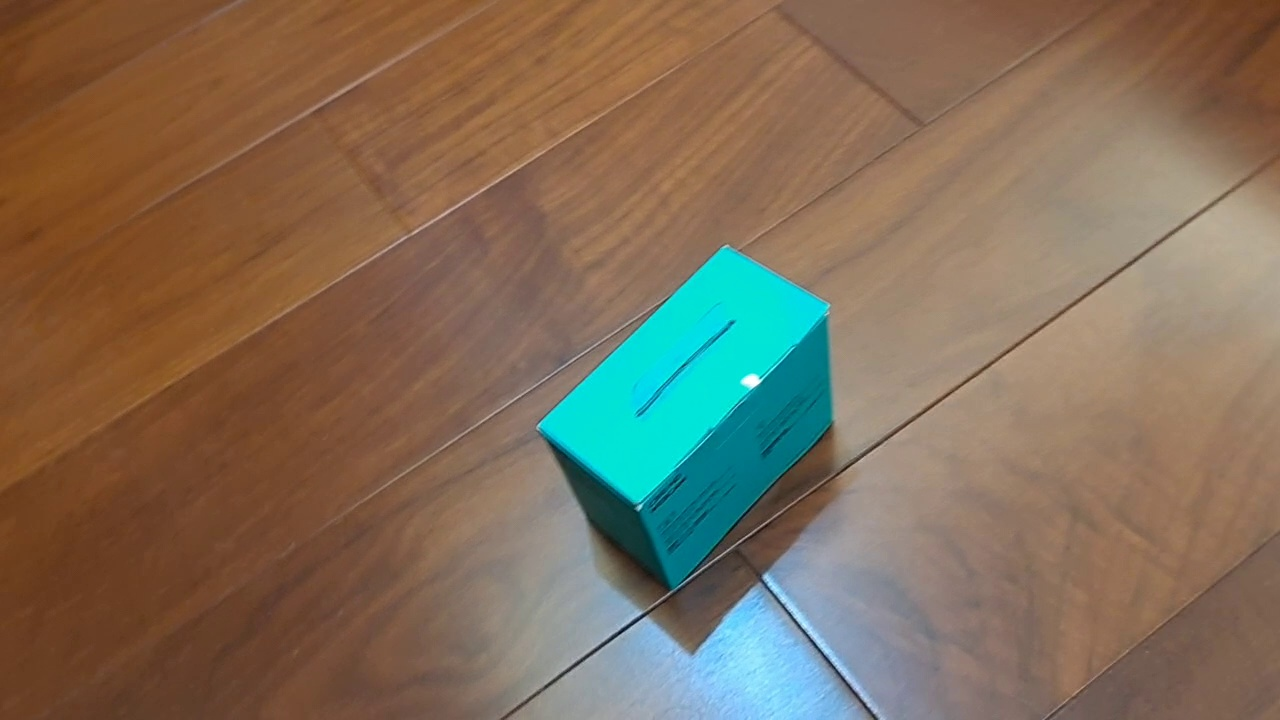webcam: (533, 242, 837, 593)
